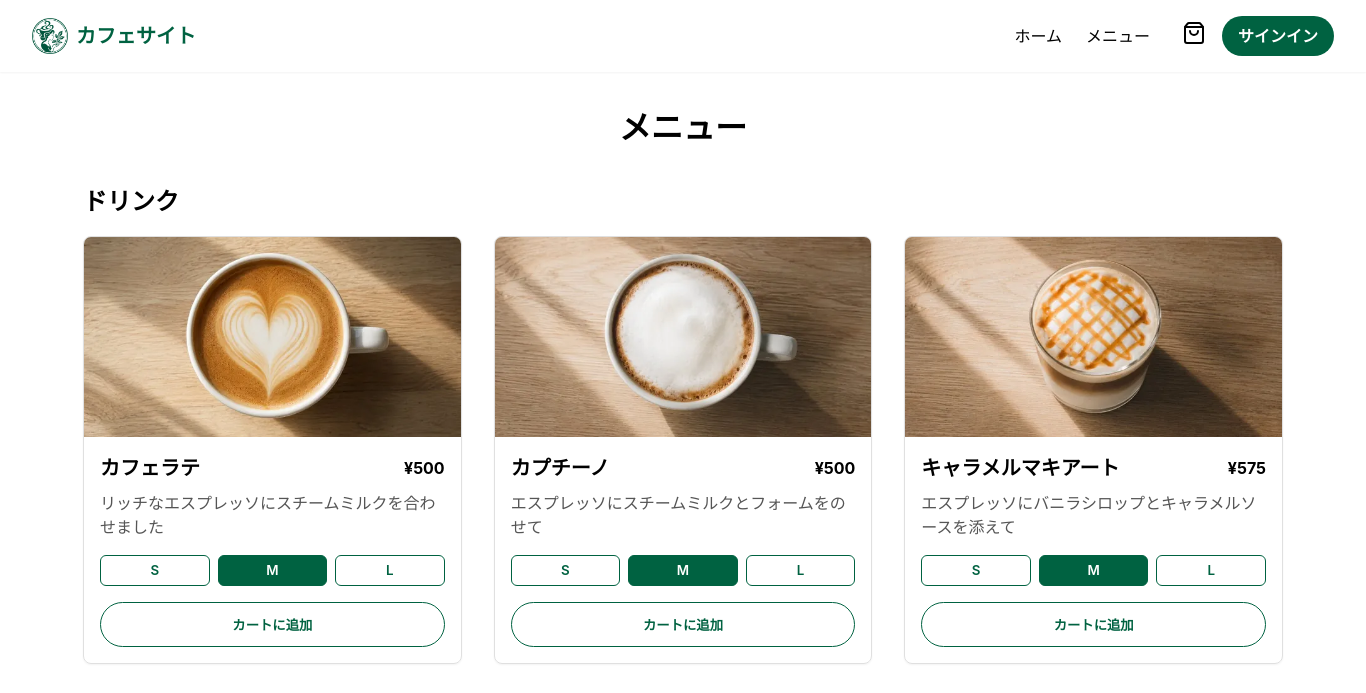
Test case: サインイン › サインインすると元いた画面に戻る（自動でメニューには飛ばない）
Step 1. Click the link "サインイン" → point(1278, 36), box [1222,16,1334,56]
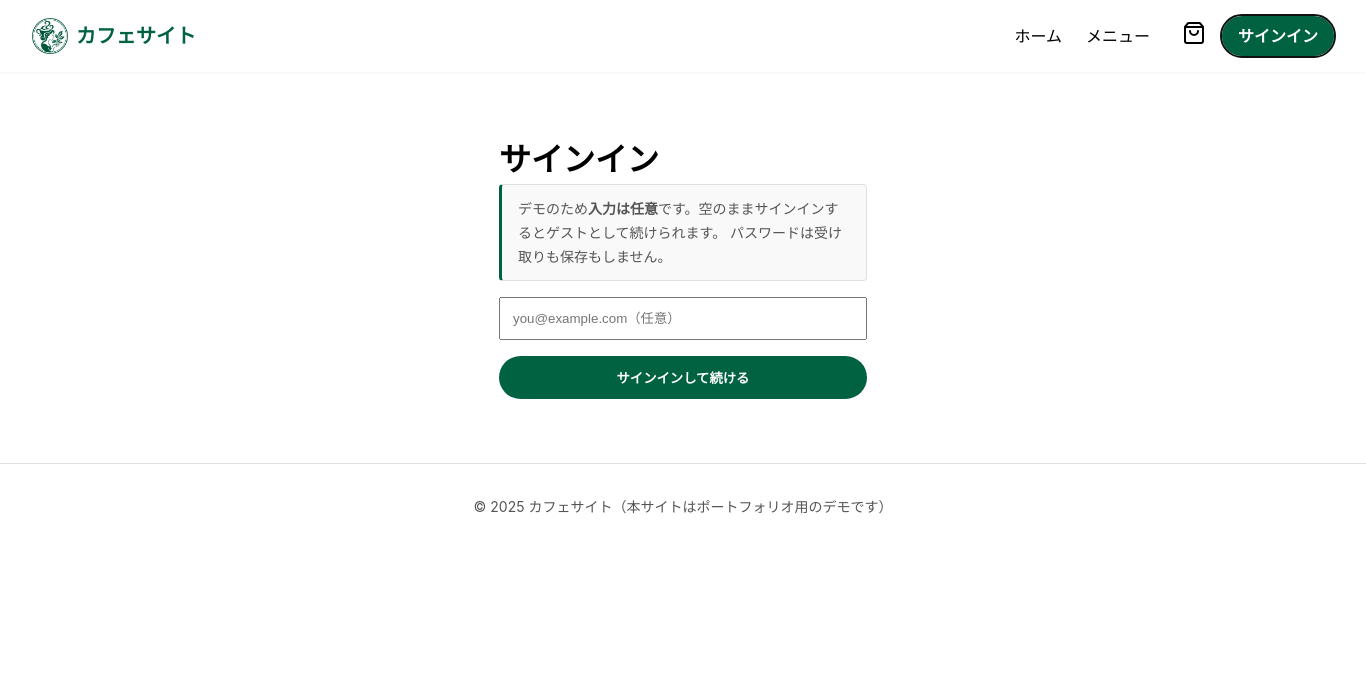
Step 2. Click the button "サインインして続ける" → point(683, 378), box [499,356,867,399]
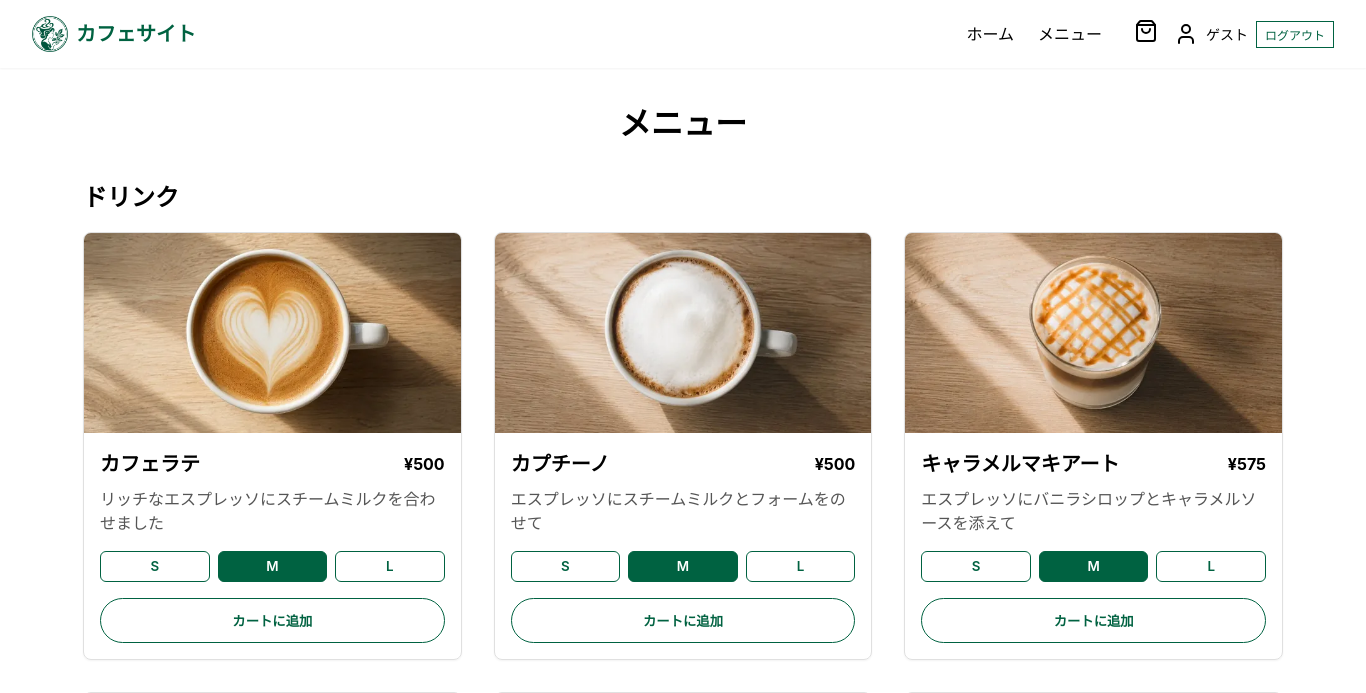
expect the heading "メニュー" is shown: met, box [619,104,747,143]
